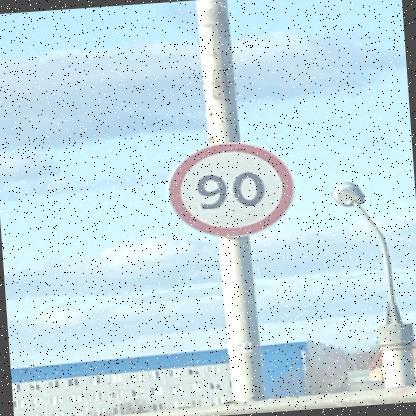speedlimit: (162, 138, 294, 240)
